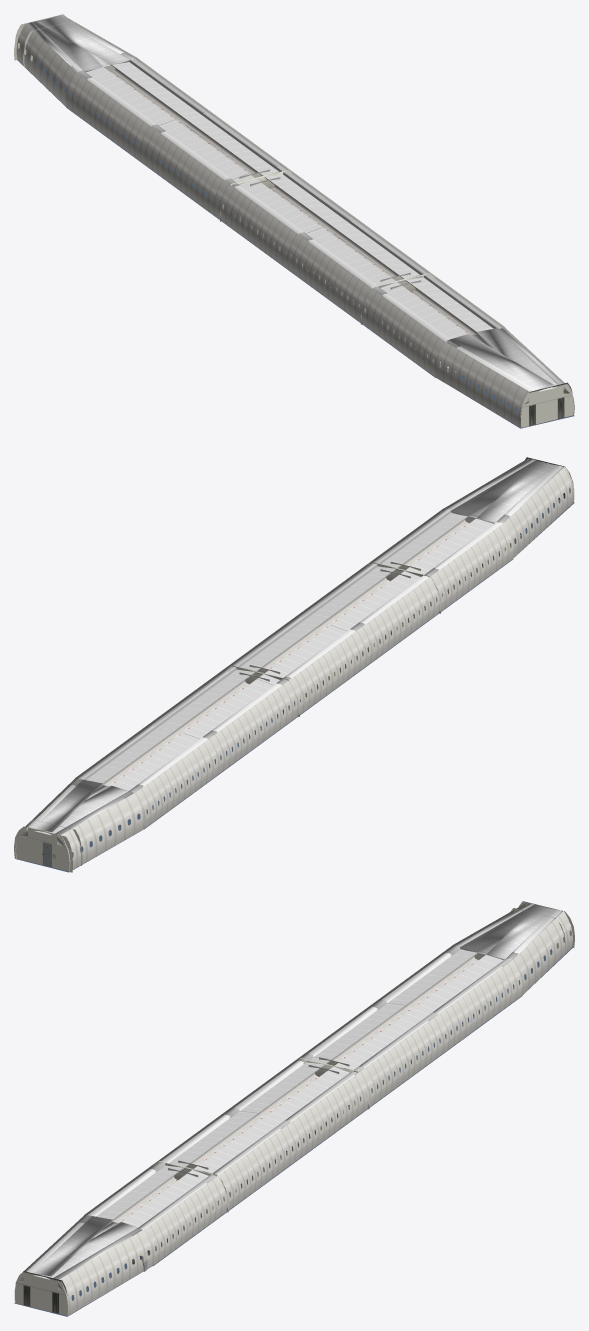
3 renders of one model, top to bottom at view 1: azimuth 30°, elevation 25°; view 2: azimuth 150°, elevation 25°; view 3: azimuth 330°, elevation 25°, orthographic.
Visible parts, largest first — view 1: static-material-0, static-material-1, static-material-4, static-material-2; view 2: static-material-0, static-material-1, static-material-3, static-material-2; view 3: static-material-0, static-material-1, static-material-4, static-material-2.
Part boxes in pixels (x1,y1,x2,y2): static-material-0: (27, 15, 569, 404); static-material-1: (16, 15, 574, 428); static-material-4: (23, 21, 573, 427); static-material-2: (219, 169, 432, 324); static-material-0: (20, 459, 563, 847); static-material-1: (15, 458, 574, 872); static-material-3: (14, 826, 72, 872); static-material-2: (228, 562, 441, 716); static-material-0: (19, 903, 561, 1291); static-material-1: (14, 902, 572, 1316); static-material-4: (15, 908, 565, 1315); static-material-2: (156, 1057, 369, 1212).
Size of the model in its own units: 5.44 by 2.26 by 59.24.
Materials: 6 (6 with a texture image).
